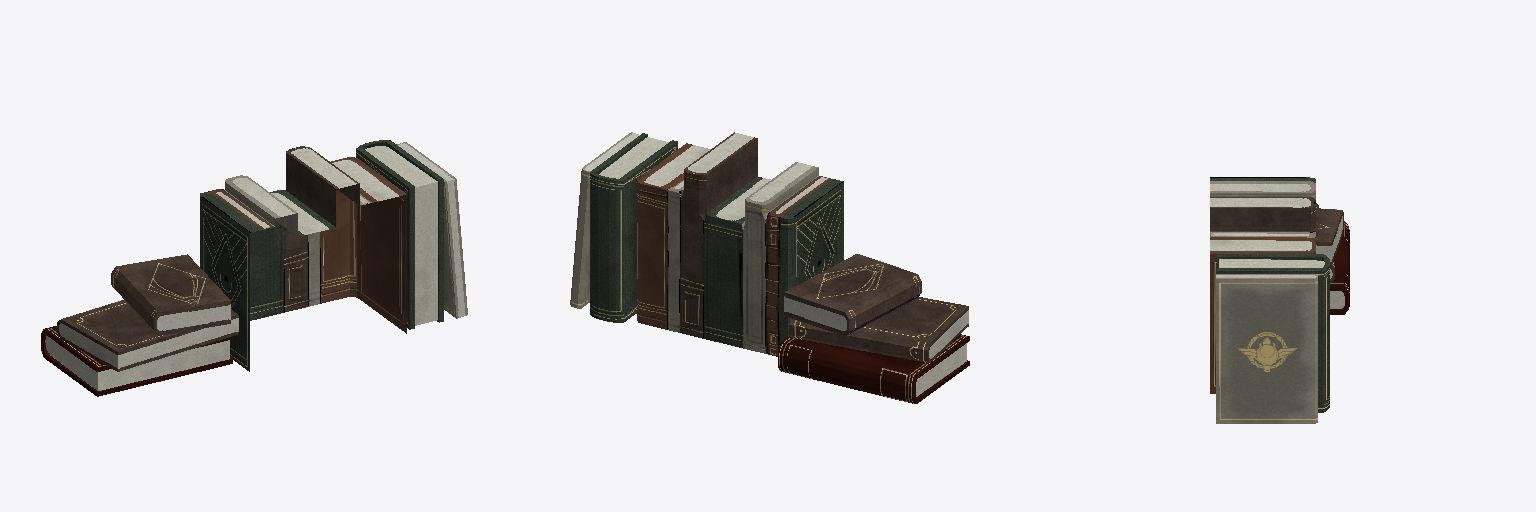
3 renders of one model, left to right at view 1: azimuth 30°, elevation 25°; view 2: azimuth 150°, elevation 25°; view 3: azimuth 270°, elevation 25°, orthographic.
Visible parts, largest first — view 1: 000_prop_books_02_inst_001; view 2: 000_prop_books_02_inst_001; view 3: 000_prop_books_02_inst_001.
Part boxes in pixels (x1,y1,x2,y2): 000_prop_books_02_inst_001: (41,140,467,396); 000_prop_books_02_inst_001: (570,132,969,403); 000_prop_books_02_inst_001: (1210,177,1349,423).
Bounding box in the file's own units: 1111 × 478 × 374.
1 materials, 1 textured.